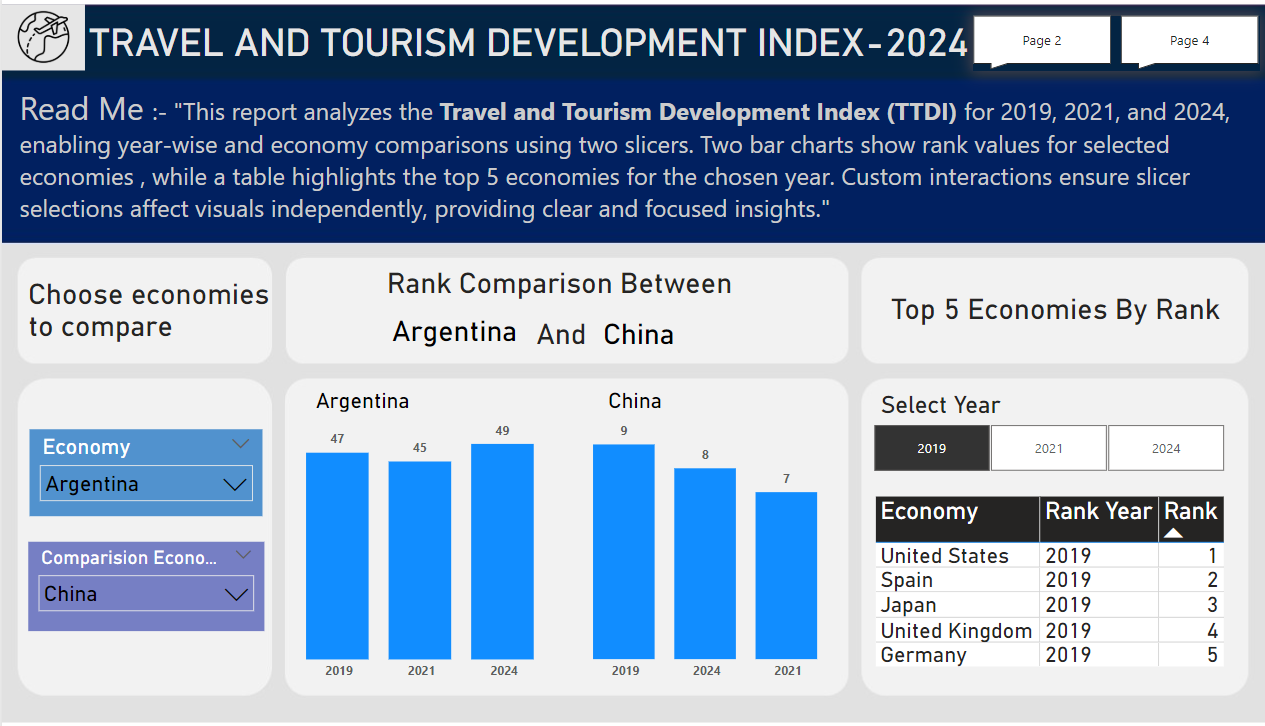

The dashboard page shown, as its layout file describes it:
{"tool":"powerbi","page":{"name":"Page 1","canvas":[1266,748],"ordinal":0},"visuals":[{"type":"slicer","fields":{"Values":["Geography.Economy"]},"box":[27.8,437.9,233.8,87],"z":0},{"type":"textbox","box":[285.4,263.9,540.4,103.5],"z":1000},{"type":"multiRowCard","fields":{"Values":["Measures_.original economy"]},"box":[386,317.1,141.6,50.1],"z":2000},{"type":"multiRowCard","fields":{"Values":["Measures_.original economy"]},"box":[309.7,391,152.6,38.5],"z":3000},{"type":"multiRowCard","fields":{"Values":["Measures_.comparision economy"]},"box":[597.9,319.6,218.1,45.1],"z":4000},{"type":"multiRowCard","fields":{"Values":["Measures_.comparision economy"]},"box":[602.9,391,146.9,35.6],"z":5000},{"type":"tableEx","fields":{"Values":["Geography.Economy","Overall T&T Development Index.Rank","Sum(Overall T&T Development Index.Rank value)"]},"box":[869.5,499.9,365,185.4],"z":6000},{"type":"columnChart","title":"Year Wise Rank","fields":{"Category":["T&T Development Index.Rank"],"Y":["Measures_.original rank"]},"box":[266.6,415.9,308,282.3],"z":7000},{"type":"slicer","fields":{"Values":["Overall T&T Development Index.Rank"]},"box":[848.4,425.8,400.7,59.9],"z":8000},{"type":"slicer","fields":{"Values":["Comparision Table.Economy"]},"box":[26.4,550.6,236.7,89.3],"z":9000},{"type":"columnChart","fields":{"Category":["Overall T&T Development Index.Rank Year"],"Y":["Measures_.comparision rank"]},"box":[555.2,414.6,303.3,283.3],"z":10000},{"type":"textbox","box":[66.1,22.5,922.8,63.3],"z":11000},{"type":"textbox","box":[21.3,279.5,260.7,89],"z":12000},{"type":"textbox","box":[886.1,294.5,348.4,60.2],"z":13000},{"type":"textbox","box":[875.5,393.2,196.8,57.6],"z":14000},{"type":"textbox","box":[12.5,87.7,1252.1,162.9],"z":15000},{"type":"pageNavigator","box":[973.4,22.5,287,54.9],"z":16000},{"type":"image","box":[0,11.3,83,66.1],"z":16001}]}

Visuals, with their boxes in screenshot pixels (x1, y1, x2, y2), scaled from the page's 1266x748 canvas onto the 1265x726 screenshot:
slicer - Geography.Economy: 28, 425, 261, 509
textbox: 285, 256, 825, 357
multiRowCard - Measures_.original economy: 386, 308, 527, 356
multiRowCard - Measures_.original economy: 309, 380, 462, 417
multiRowCard - Measures_.comparision economy: 597, 310, 815, 354
multiRowCard - Measures_.comparision economy: 602, 380, 749, 414
tableEx - Geography.Economy x Overall T&T Development Index.Rank: 869, 485, 1234, 665
"Year Wise Rank" columnChart: 266, 404, 574, 678
slicer - Overall T&T Development Index.Rank: 848, 413, 1248, 471
slicer - Comparision Table.Economy: 26, 534, 263, 621
columnChart - Overall T&T Development Index.Rank Year x Measures_.comparision rank: 555, 402, 858, 677
textbox: 66, 22, 988, 83
textbox: 21, 271, 282, 358
textbox: 885, 286, 1234, 344
textbox: 875, 382, 1071, 438
textbox: 12, 85, 1264, 243
pageNavigator: 973, 22, 1259, 75
image: 0, 11, 83, 75
